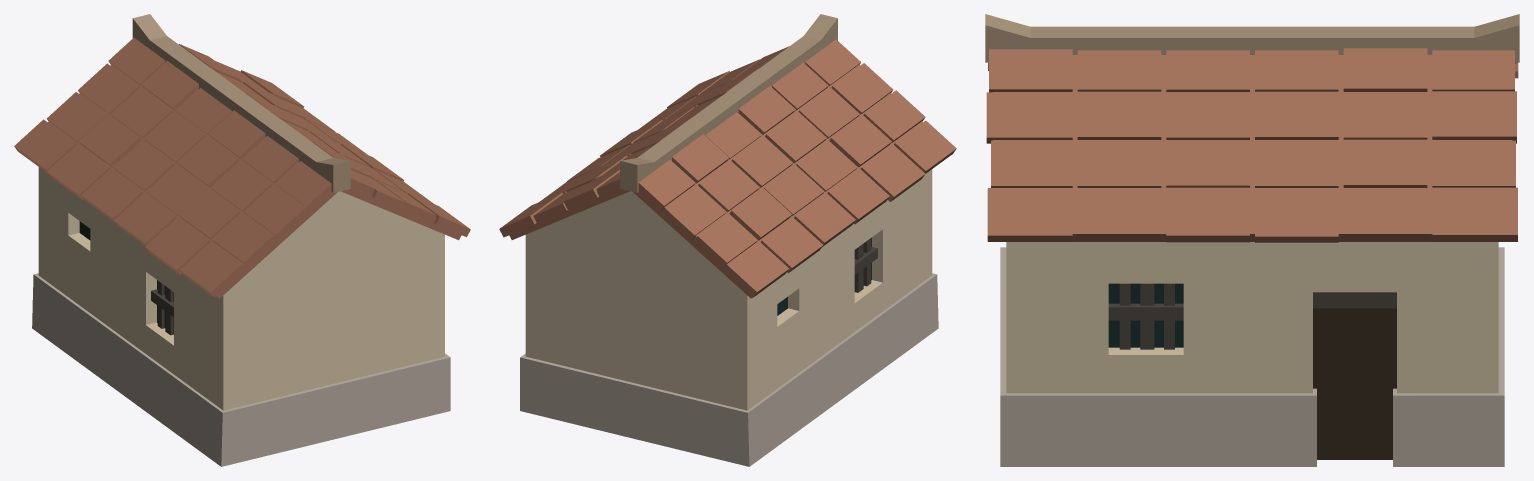
File: Building_mode_L2_Northhouse001.fbx
3 renders of one model, left to right at view 1: azimuth 30°, elevation 25°; view 2: azimuth 150°, elevation 25°; view 3: azimuth 270°, elevation 25°, orthographic. The views are drawn at different scales.
Visible parts, largest first — view 1: Building_mode_L2_Northhouse001; view 2: Building_mode_L2_Northhouse001; view 3: Building_mode_L2_Northhouse001.
Boxes of the visible parts, bbox=[...] form: Building_mode_L2_Northhouse001: bbox=[14, 14, 470, 466]; Building_mode_L2_Northhouse001: bbox=[499, 14, 956, 466]; Building_mode_L2_Northhouse001: bbox=[985, 14, 1519, 466].
Size of the model in its own units: 2.86 by 2.93 by 3.8.
